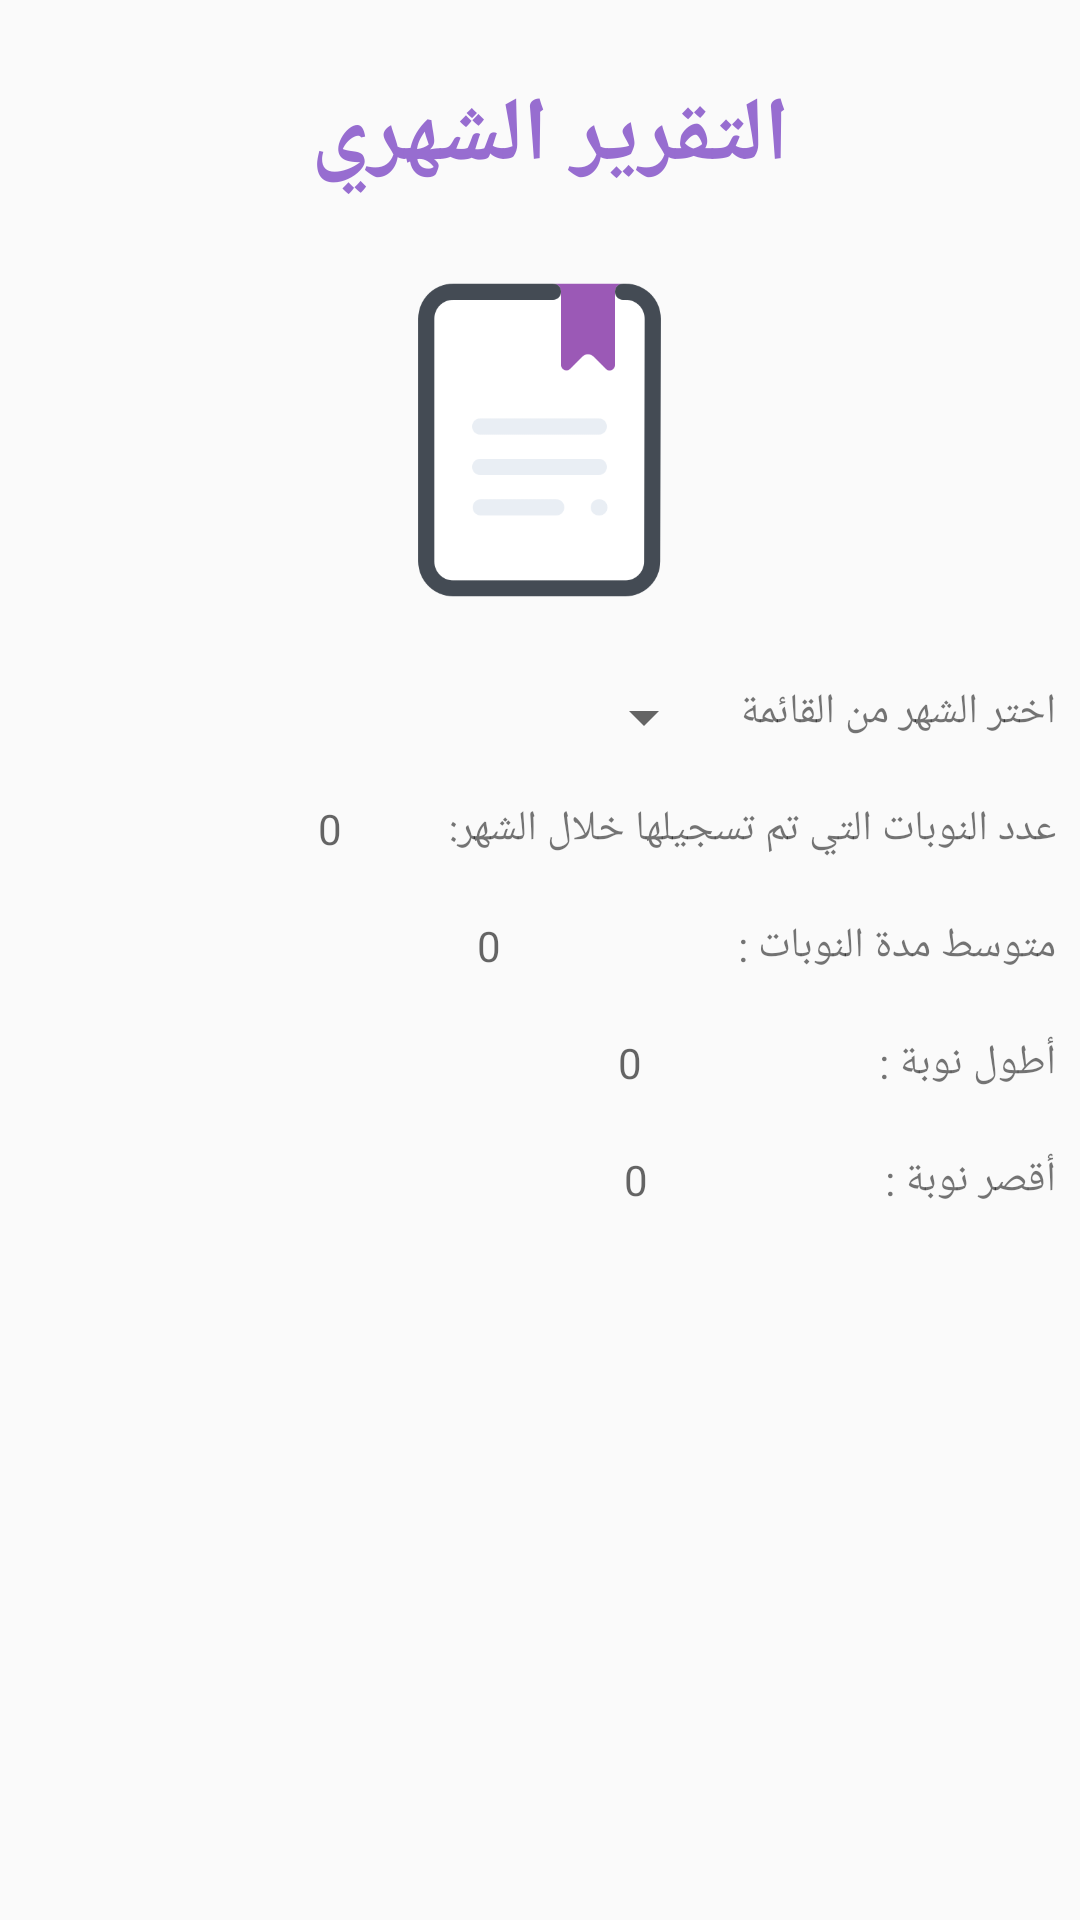

Point at icon controls on the screen. Image size 1080 × 1920, points as [x,y].
report: [539,440]
